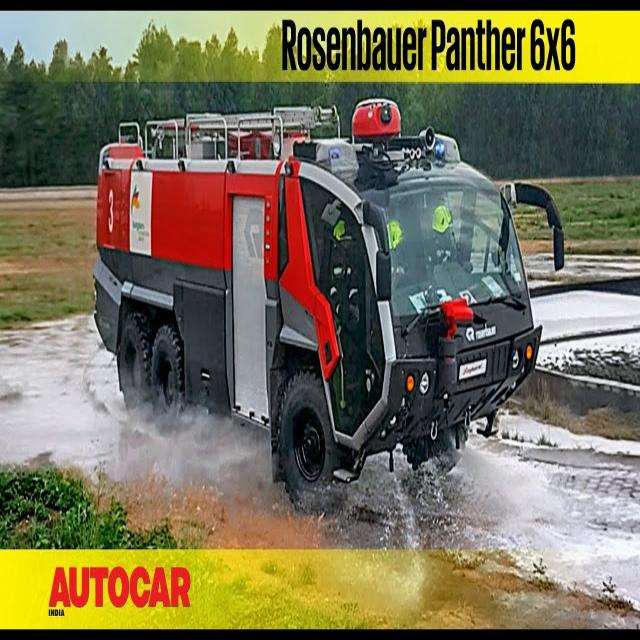emergency: (92, 98, 564, 511)
